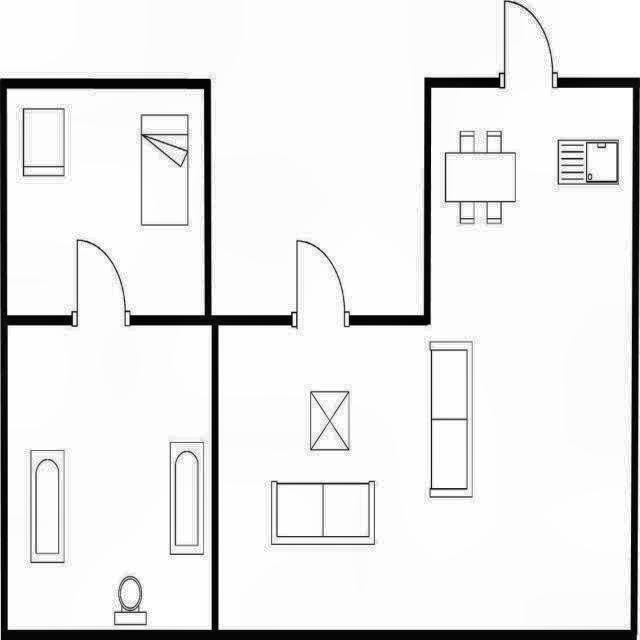room: (219, 86, 633, 629), (7, 325, 212, 630), (8, 88, 204, 315)
